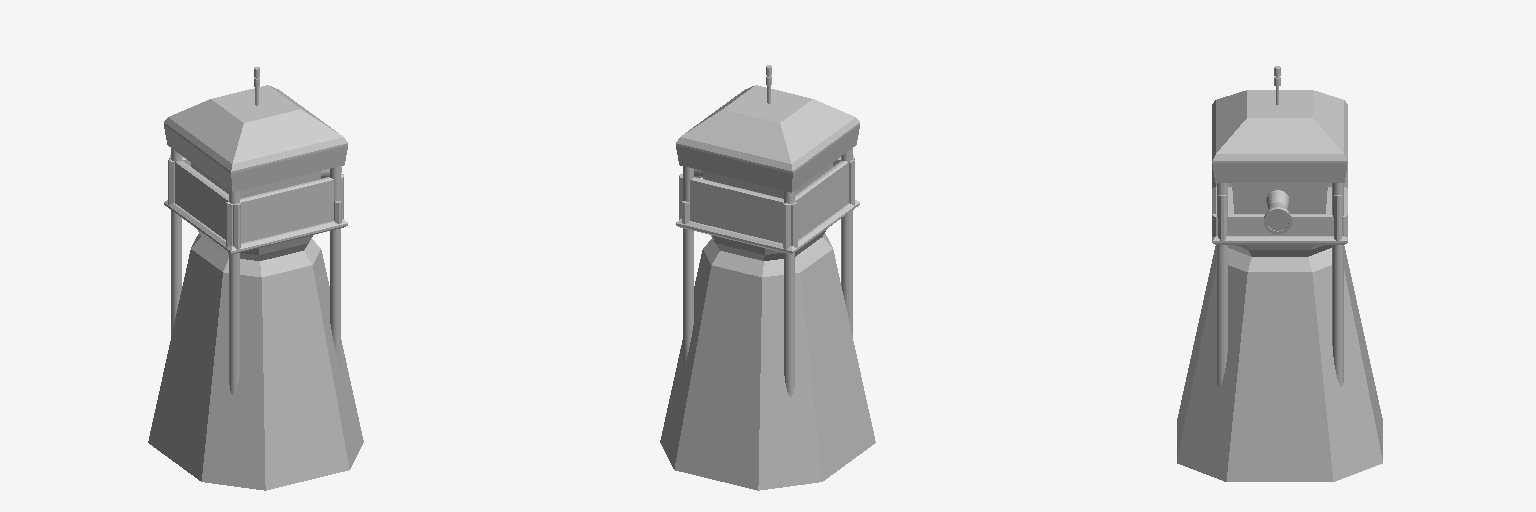
The model's file is tower_1.obj.
The picture shows the model from 3 angles: view 1: azimuth 30°, elevation 25°; view 2: azimuth 150°, elevation 25°; view 3: azimuth 270°, elevation 25°; orthographic projection.
Visible parts, largest first — view 1: korpus, pol.001, pol.002, pol.004, BUP2, BUP, pol, BUP3; view 2: korpus, pol.001, pol.003, pol.004, BUP3, BUP4, pol, BUP2; view 3: korpus, pol.001, pol.005, BUP4, BUP, pol, Cylinder.
Part boxes in pixels (x1,y1,x2,y2): korpus: (148,229,363,490); pol.001: (164,85,347,197); pol.002: (226,174,343,247); pol.004: (169,155,240,249); BUP2: (229,191,239,394); BUP: (330,166,340,368); pol: (164,200,347,254); BUP3: (171,148,181,335); korpus: (660,229,875,490); pol.001: (676,85,859,198); pol.003: (679,174,797,247); pol.004: (783,155,854,249); BUP3: (784,191,794,396); BUP4: (683,166,693,369); pol: (676,200,859,254); BUP2: (841,148,852,335); korpus: (1177,245,1382,481); pol.001: (1212,90,1347,213); pol.005: (1212,214,1347,236); BUP4: (1332,183,1343,386); BUP: (1217,183,1227,386); pol: (1212,187,1347,244); Cylinder: (1264,190,1291,234).
Size of the model in its own units: 8.03 by 17.83 by 8.85.